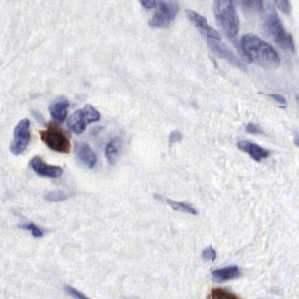Lymphocyte: (41, 122, 72, 153)
